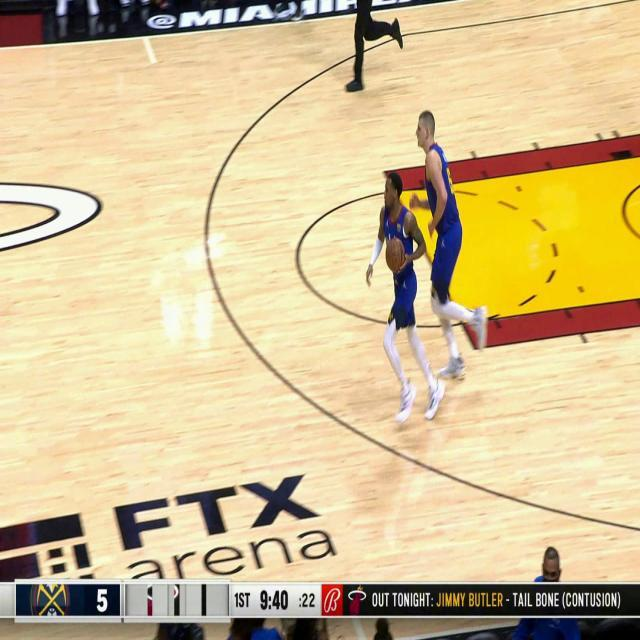rim: (386, 238, 404, 272)
